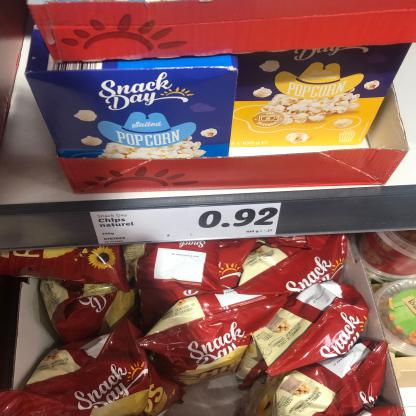prtg: (91, 204, 283, 245)
